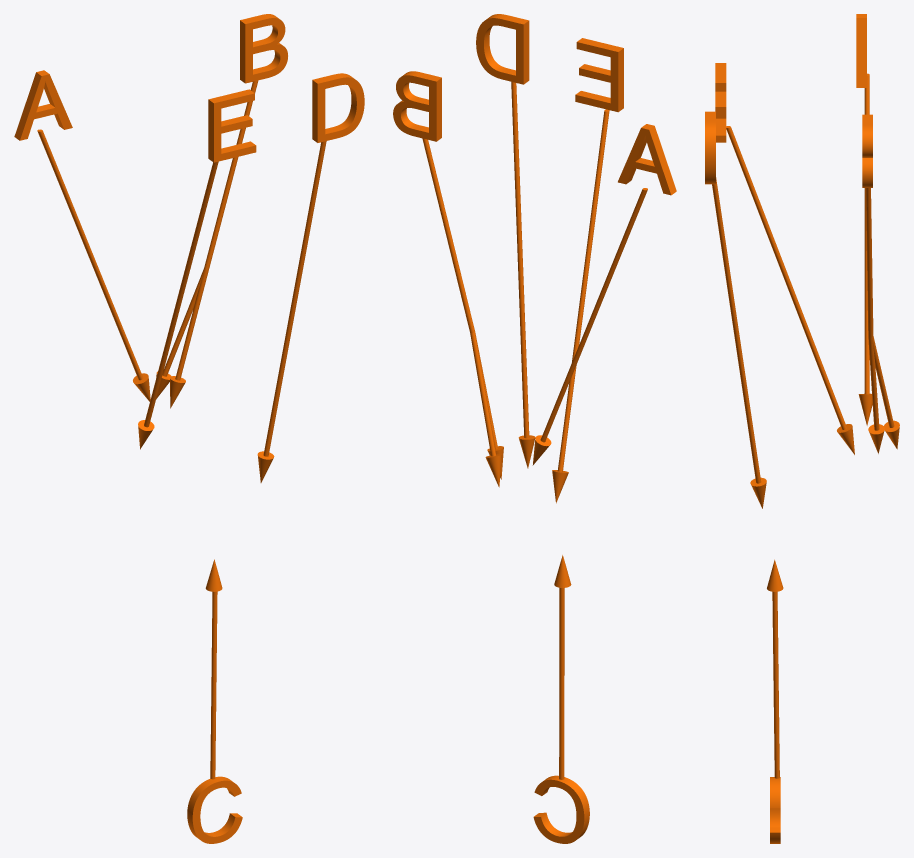
Rendered from s2arrow.glb.
3 views of the same model, side by side, from view 1: azimuth 30°, elevation 25°; view 2: azimuth 150°, elevation 25°; view 3: azimuth 270°, elevation 25° (orthographic). The views are drawn at different scales.
Parts seen in each view (by area): view 1: Node; view 2: Node; view 3: Node.
Boxes of the visible parts, bbox=[...] form: Node: bbox=[14, 14, 364, 843]; Node: bbox=[393, 14, 676, 843]; Node: bbox=[705, 14, 899, 843].
Size of the model in its own units: 7.17 by 19.38 by 4.49.
